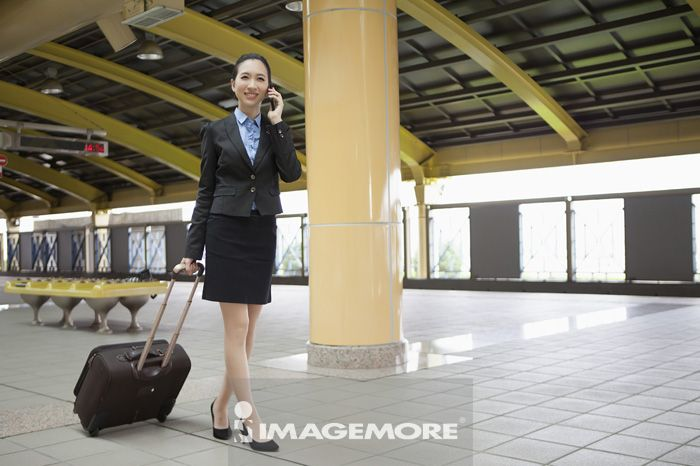talk: (238, 70, 287, 120)
